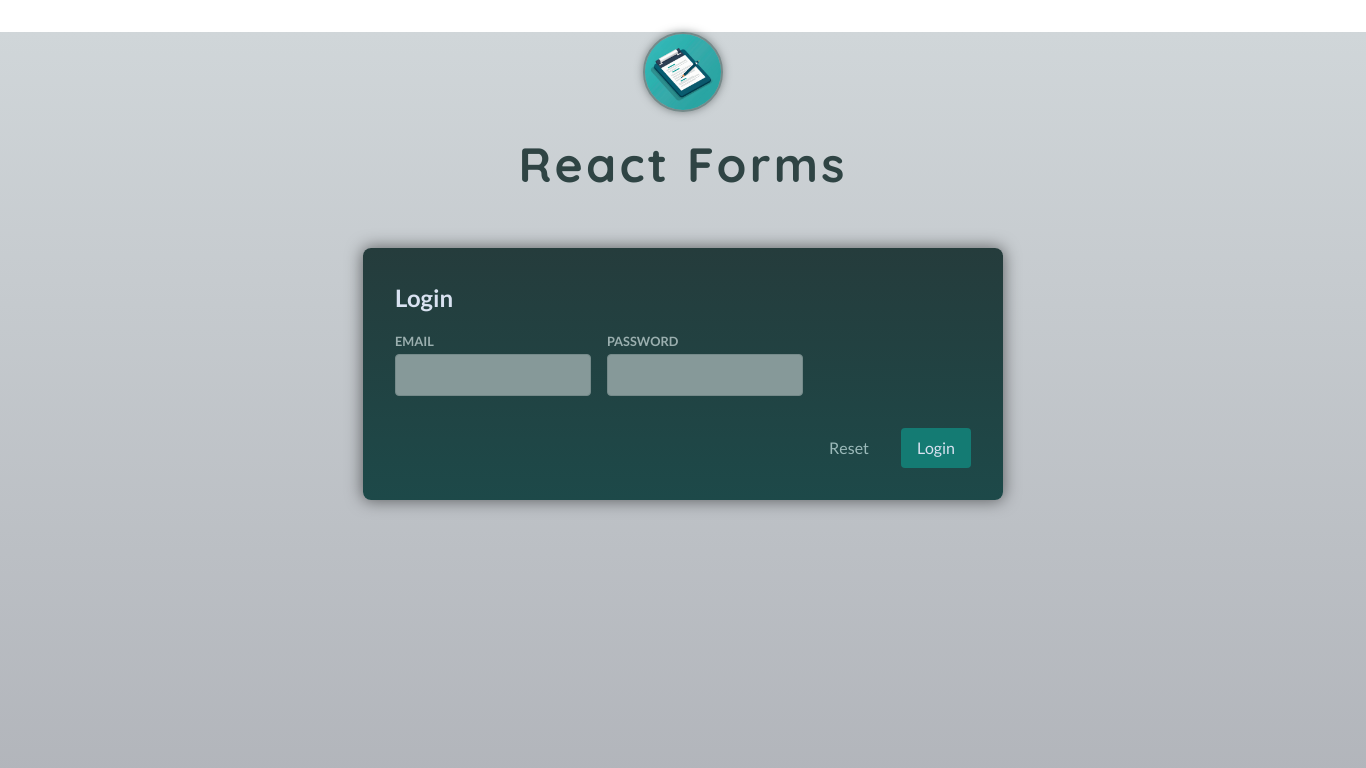
Scenario: UserInputPage › shows the email validation error from the login form
Type "no-at-sign" into the field labelled "Email".
click(493, 375); type("no-at-sign")  # box [395, 354, 591, 396]
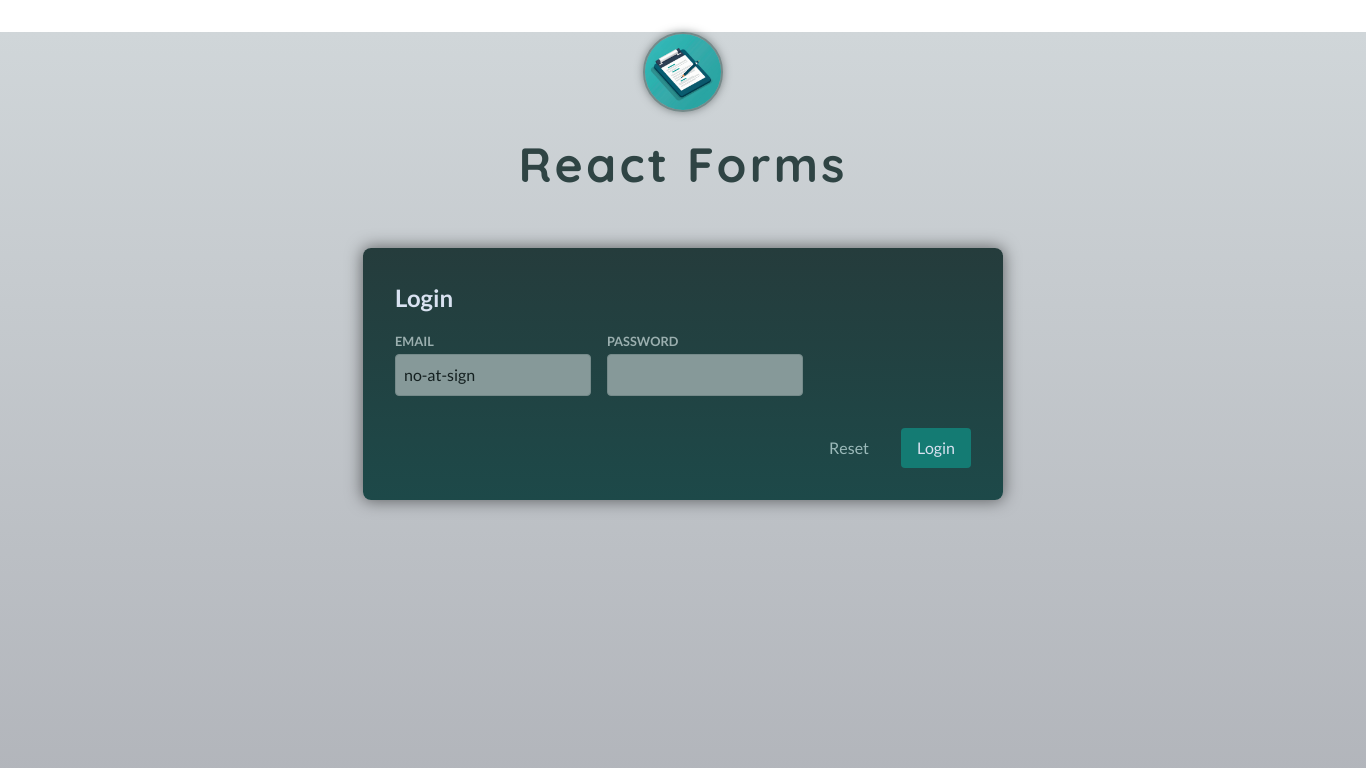
Leave the field labelled "Email", box [395, 354, 591, 396]
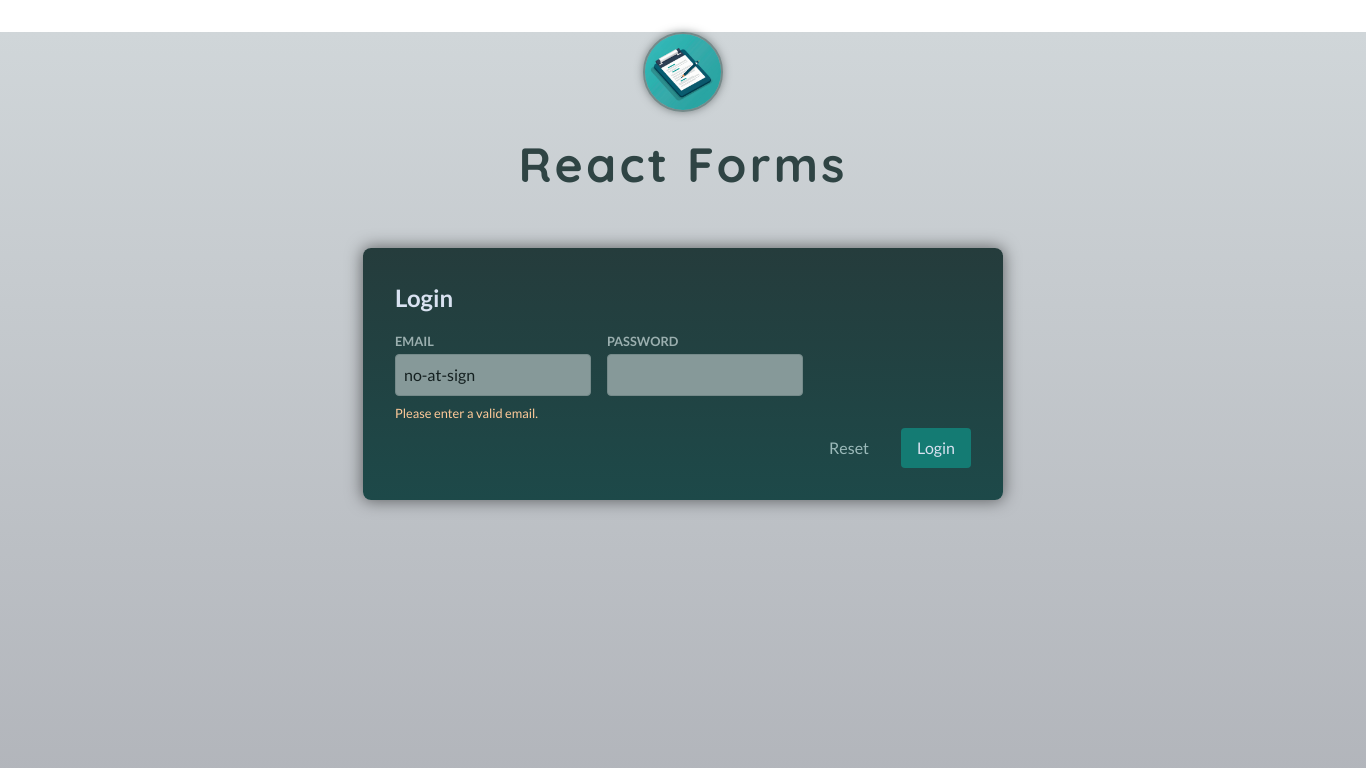
Expected: the text "Please enter a valid email." is shown, [395, 405, 538, 421]
